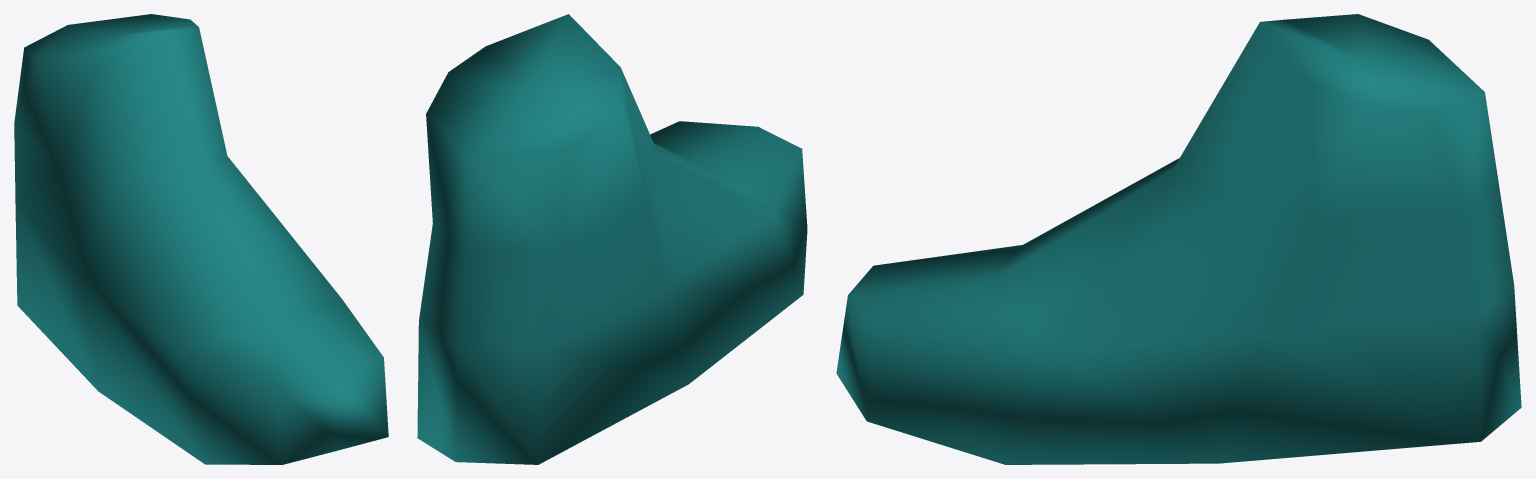
The model's file is sneakers_collider.fbx.
3 renders of one model, left to right at view 1: azimuth 30°, elevation 25°; view 2: azimuth 150°, elevation 25°; view 3: azimuth 270°, elevation 25°, orthographic. The views are drawn at different scales.
Parts seen in each view (by area): view 1: sneakers_collider; view 2: sneakers_collider; view 3: sneakers_collider.
Part boxes in pixels (x1,y1,x2,y2): sneakers_collider: (14, 14, 388, 464); sneakers_collider: (417, 14, 807, 464); sneakers_collider: (836, 14, 1521, 464).
Size of the model in its own units: 9.14 by 15.76 by 24.86.
